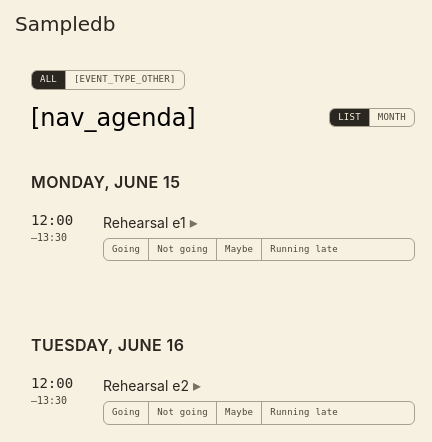
Test: +page — the saved cue fires on reconcile, per event (#326) › a successful write puts the saved announcement on THAT row — and the reconciled value stays pressed
This screenshot has width=432, height=442.
Click the button with test id "rsvp-btn-going" below "Rehearsal e1" at coordinates (127, 249), box [104,238,149,260]
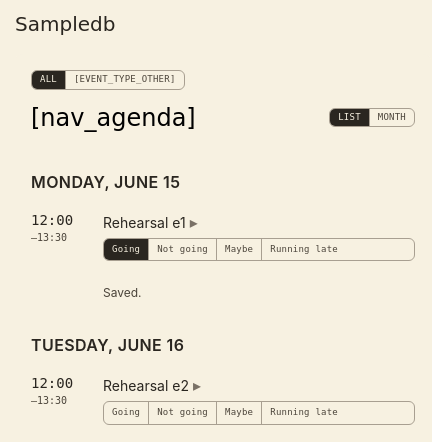
Expected: the message with test id "rsvp-saved-status" reads "Saved.", [103,285,142,300]
